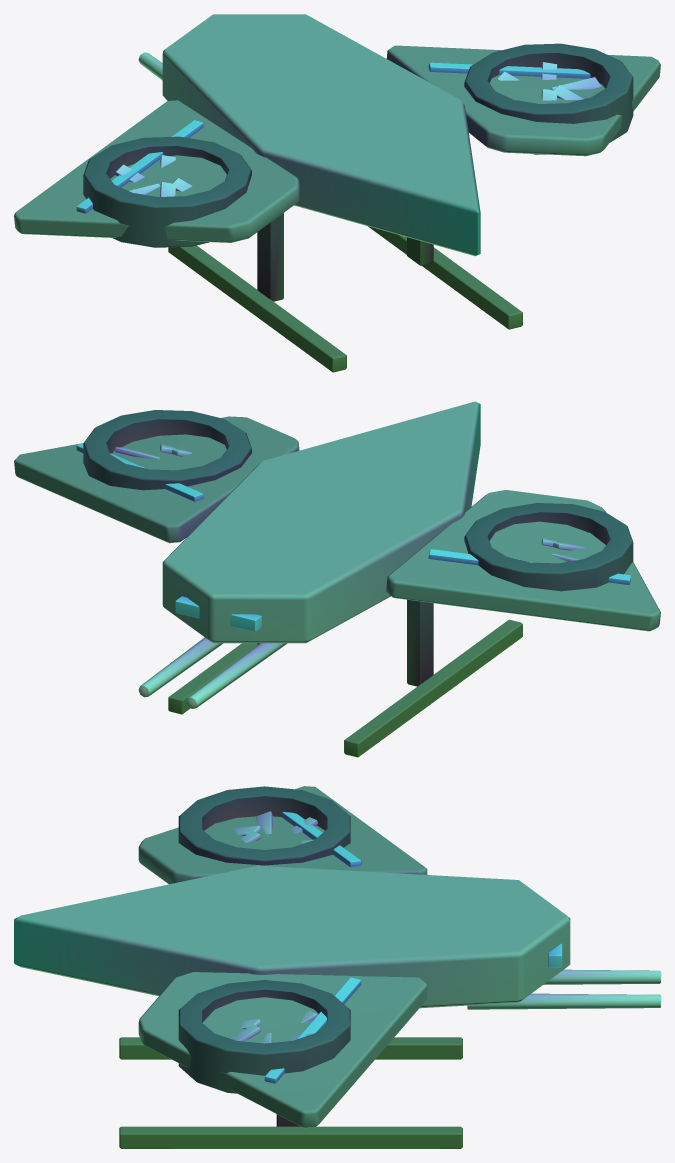
Rendered from wasp.glb.
3 views of the same model, one above another, from view 1: azimuth 30°, elevation 25°; view 2: azimuth 150°, elevation 25°; view 3: azimuth 270°, elevation 25° (orthographic). The views are drawn at different scales.
Visible parts, largest first — view 1: Body__armor, Body__armor_sub, Body__dark, Body__gunmetal, Body__emit_core, Spinner_Y_1__chrome, Spinner_Y_0__chrome; view 2: Body__armor, Body__armor_sub, Body__dark, Body__gunmetal, Gun__chrome, Body__emit_core; view 3: Body__armor, Body__armor_sub, Body__dark, Body__gunmetal, Gun__chrome, Body__emit_core, Spinner_Y_0__chrome, Spinner_Y_1__chrome.
Boxes of the visible parts, left/top/right/bottom form: Body__armor: left=162, top=14, right=480, bottom=256; Body__armor_sub: left=14, top=45, right=660, bottom=242; Body__dark: left=83, top=43, right=633, bottom=301; Body__gunmetal: left=168, top=226, right=522, bottom=372; Body__emit_core: left=76, top=62, right=630, bottom=213; Spinner_Y_1__chrome: left=497, top=62, right=601, bottom=100; Spinner_Y_0__chrome: left=115, top=155, right=192, bottom=196; Body__armor: left=162, top=401, right=480, bottom=643; Body__armor_sub: left=14, top=416, right=660, bottom=631; Body__dark: left=83, top=410, right=633, bottom=686; Body__gunmetal: left=168, top=619, right=522, bottom=757; Gun__chrome: left=138, top=637, right=287, bottom=708; Body__emit_core: left=76, top=443, right=631, bottom=631; Body__armor: left=14, top=865, right=570, bottom=1008; Body__armor_sub: left=138, top=786, right=427, bottom=1128; Body__dark: left=178, top=786, right=350, bottom=1126; Body__gunmetal: left=119, top=1037, right=462, bottom=1148; Gun__chrome: left=467, top=969, right=660, bottom=1009; Body__emit_core: left=264, top=812, right=562, bottom=1083; Spinner_Y_0__chrome: left=233, top=811, right=318, bottom=843; Spinner_Y_1__chrome: left=235, top=1010, right=317, bottom=1043.
Bounding box in the file's own units: 1.75 × 0.465 × 1.47.
